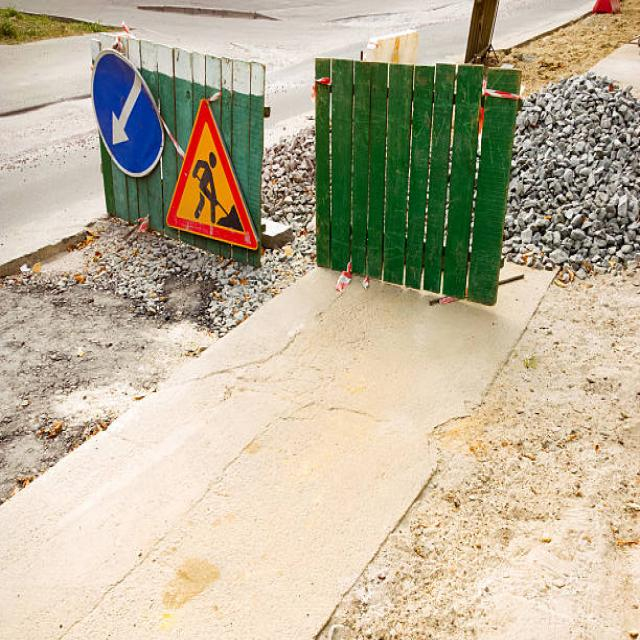road_work: (168, 77, 267, 256)
